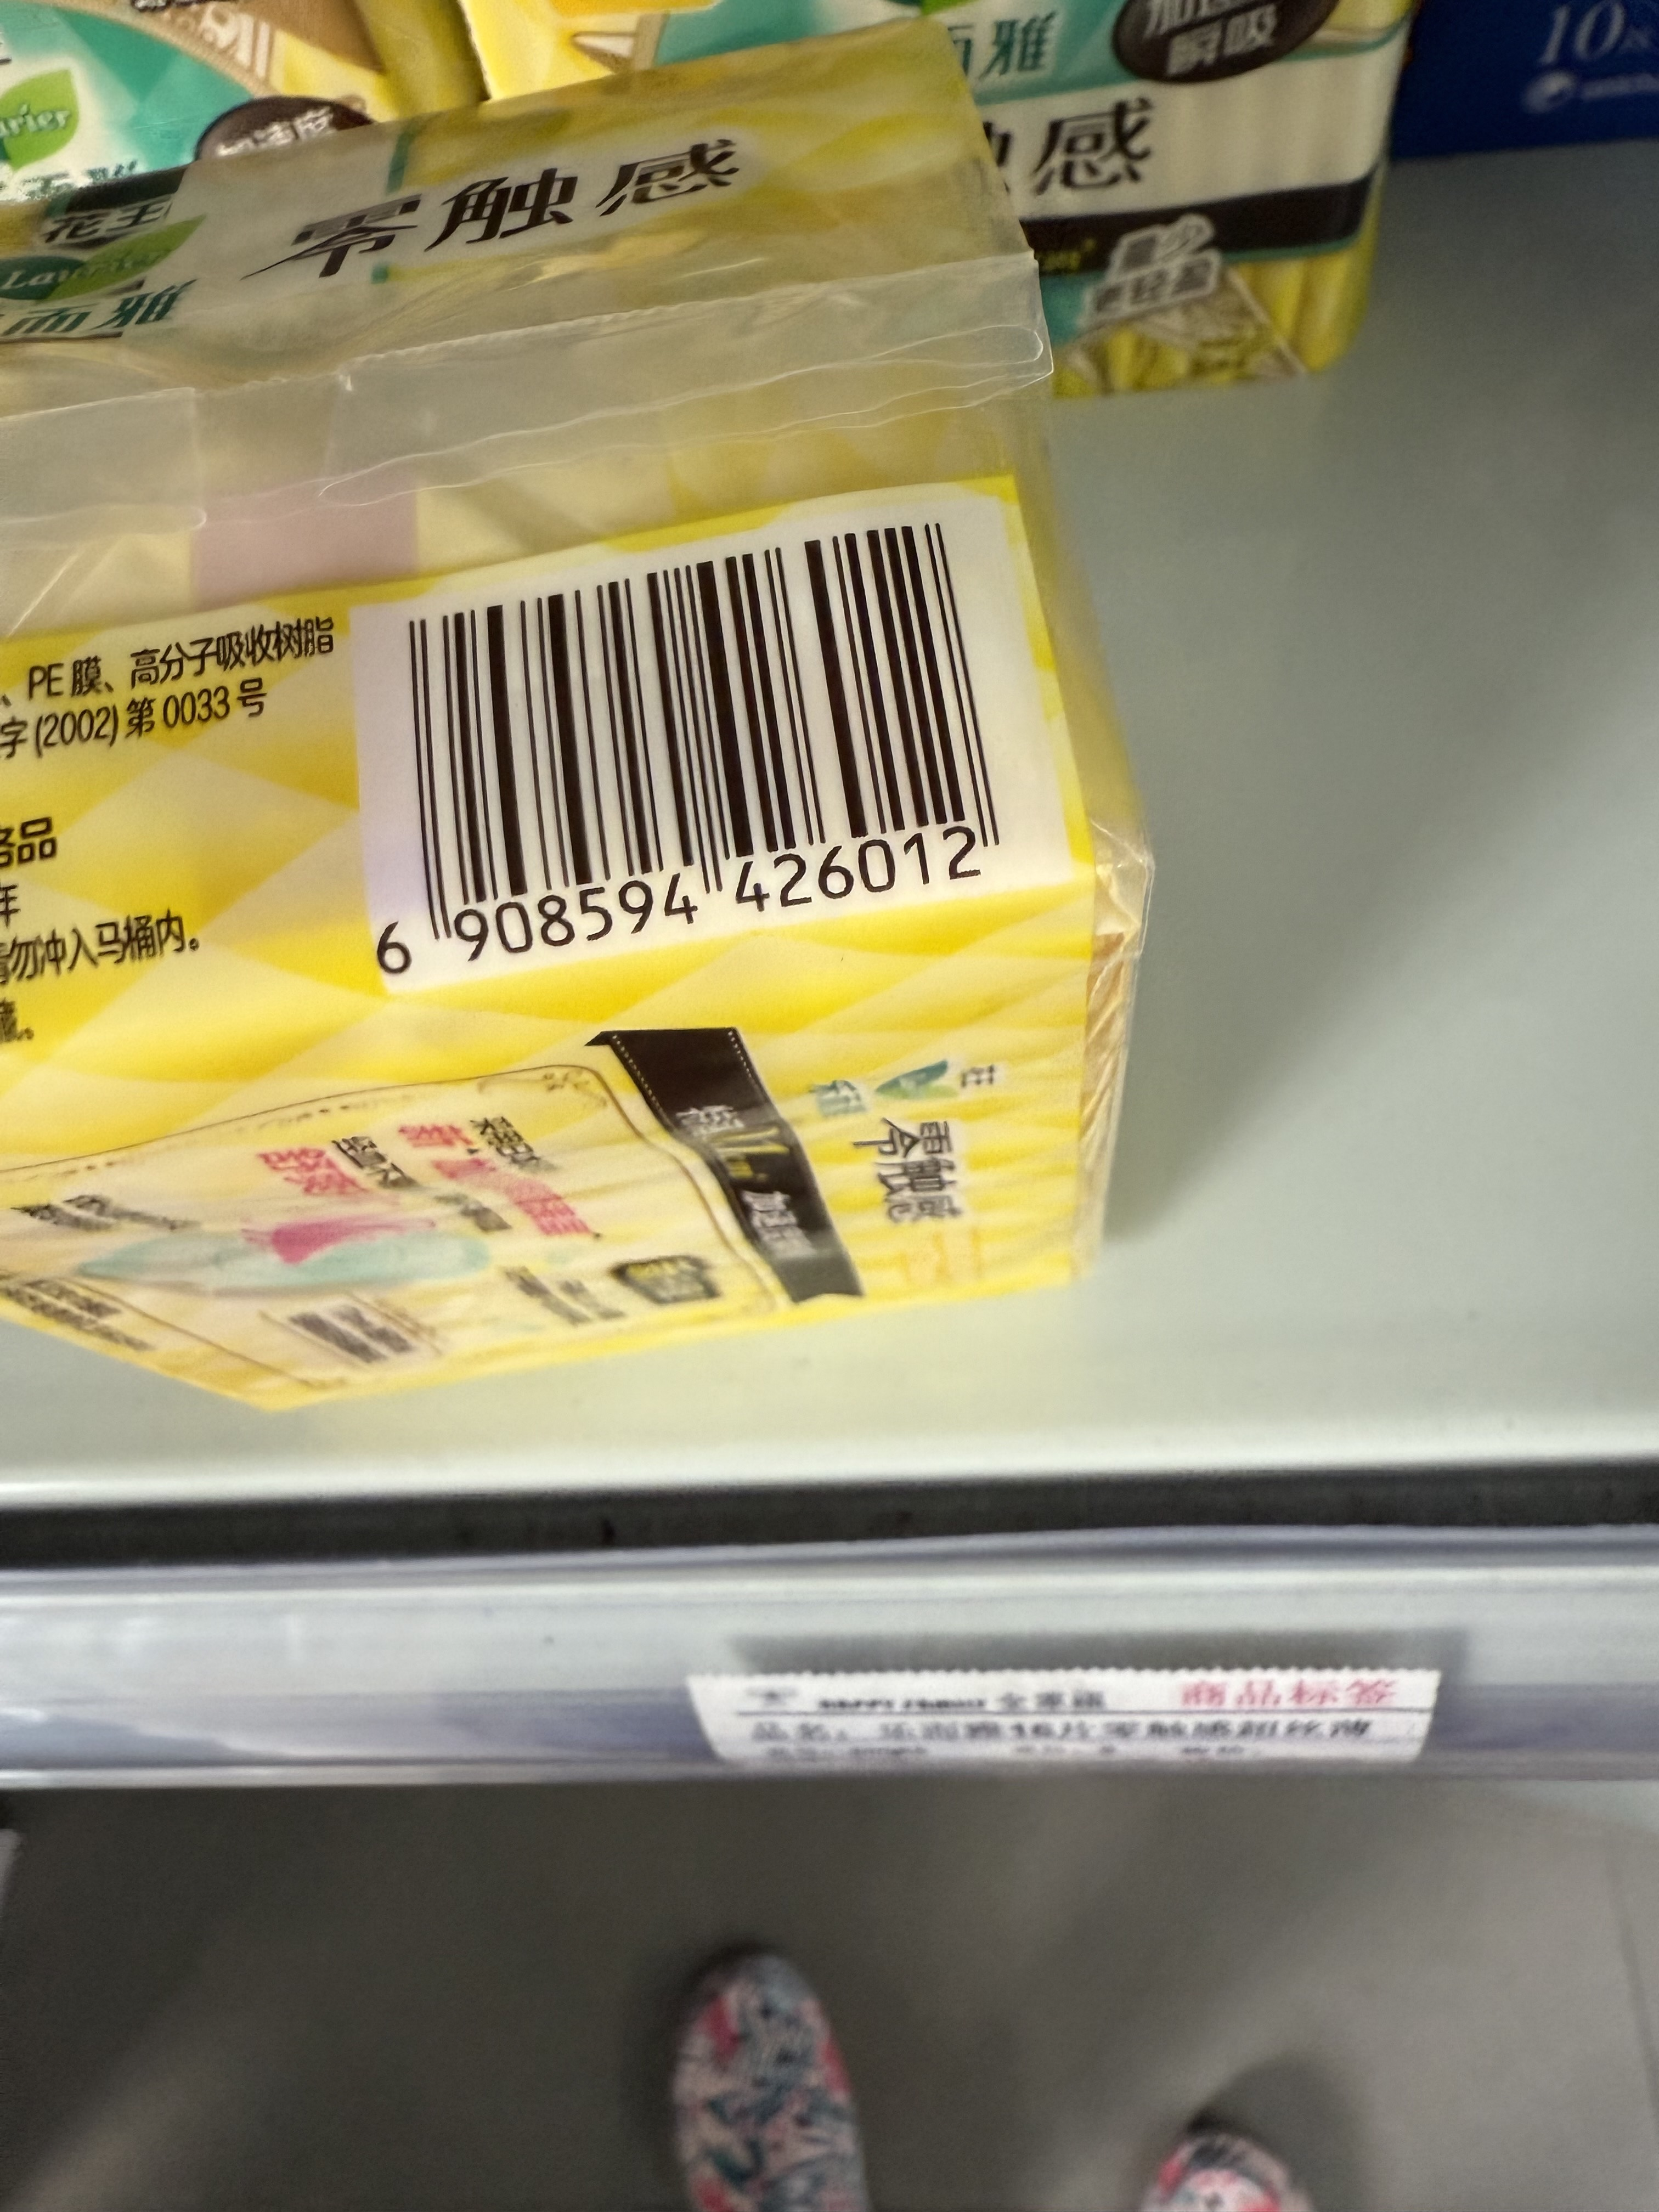bar: (399, 519, 1007, 942)
